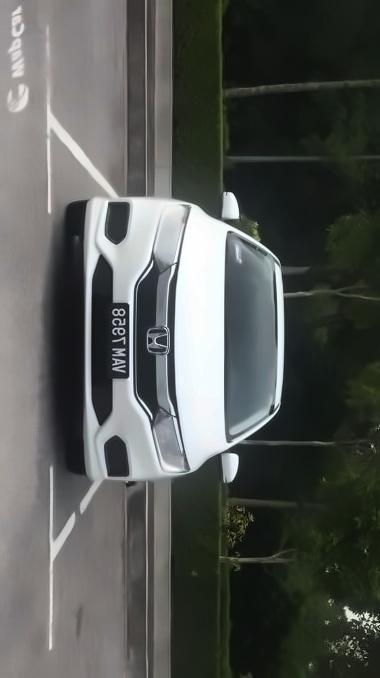Car hood: (168, 201, 231, 476)
Front bumper: (81, 192, 163, 488)
Headlight - -L-: (149, 403, 193, 477)
Headlight - -R-: (150, 199, 197, 278)
Side mirror - -L-: (211, 448, 245, 489)
Side mirror - -R-: (216, 188, 246, 232)
